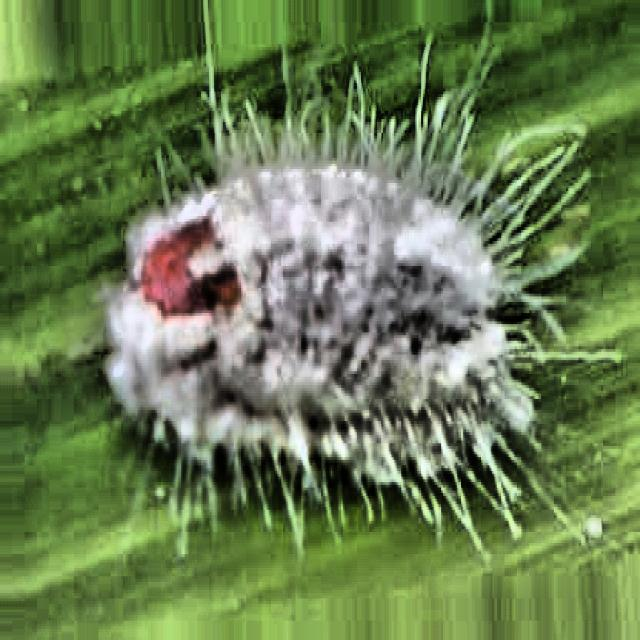Mealy-bug: (65, 34, 571, 559)
